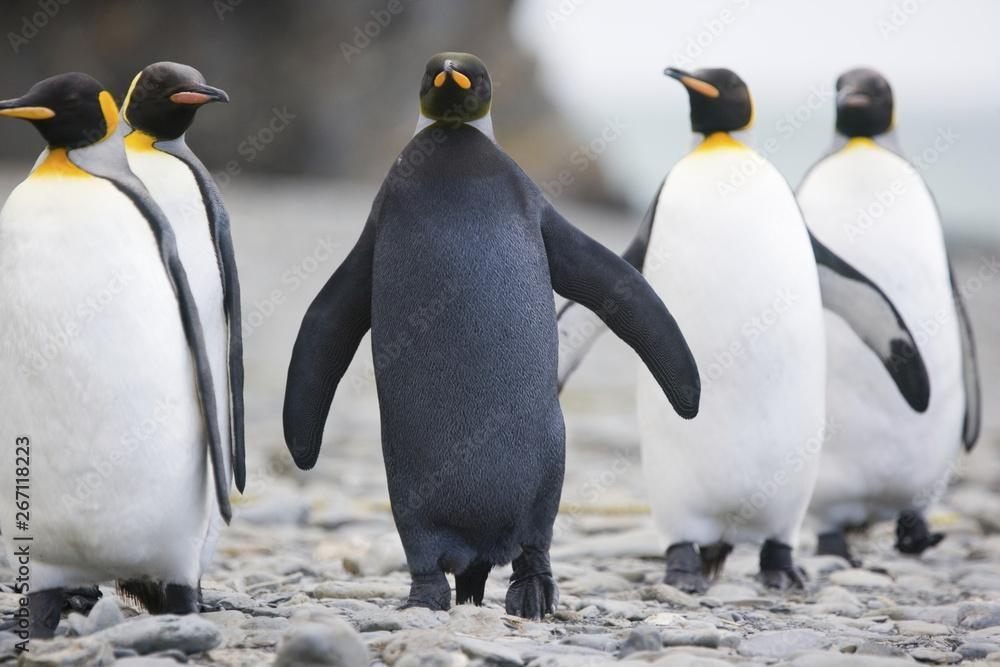Penguin: (283, 53, 699, 617), (623, 68, 932, 592), (0, 74, 230, 636), (797, 68, 980, 559), (121, 63, 246, 489), (556, 300, 607, 396)
